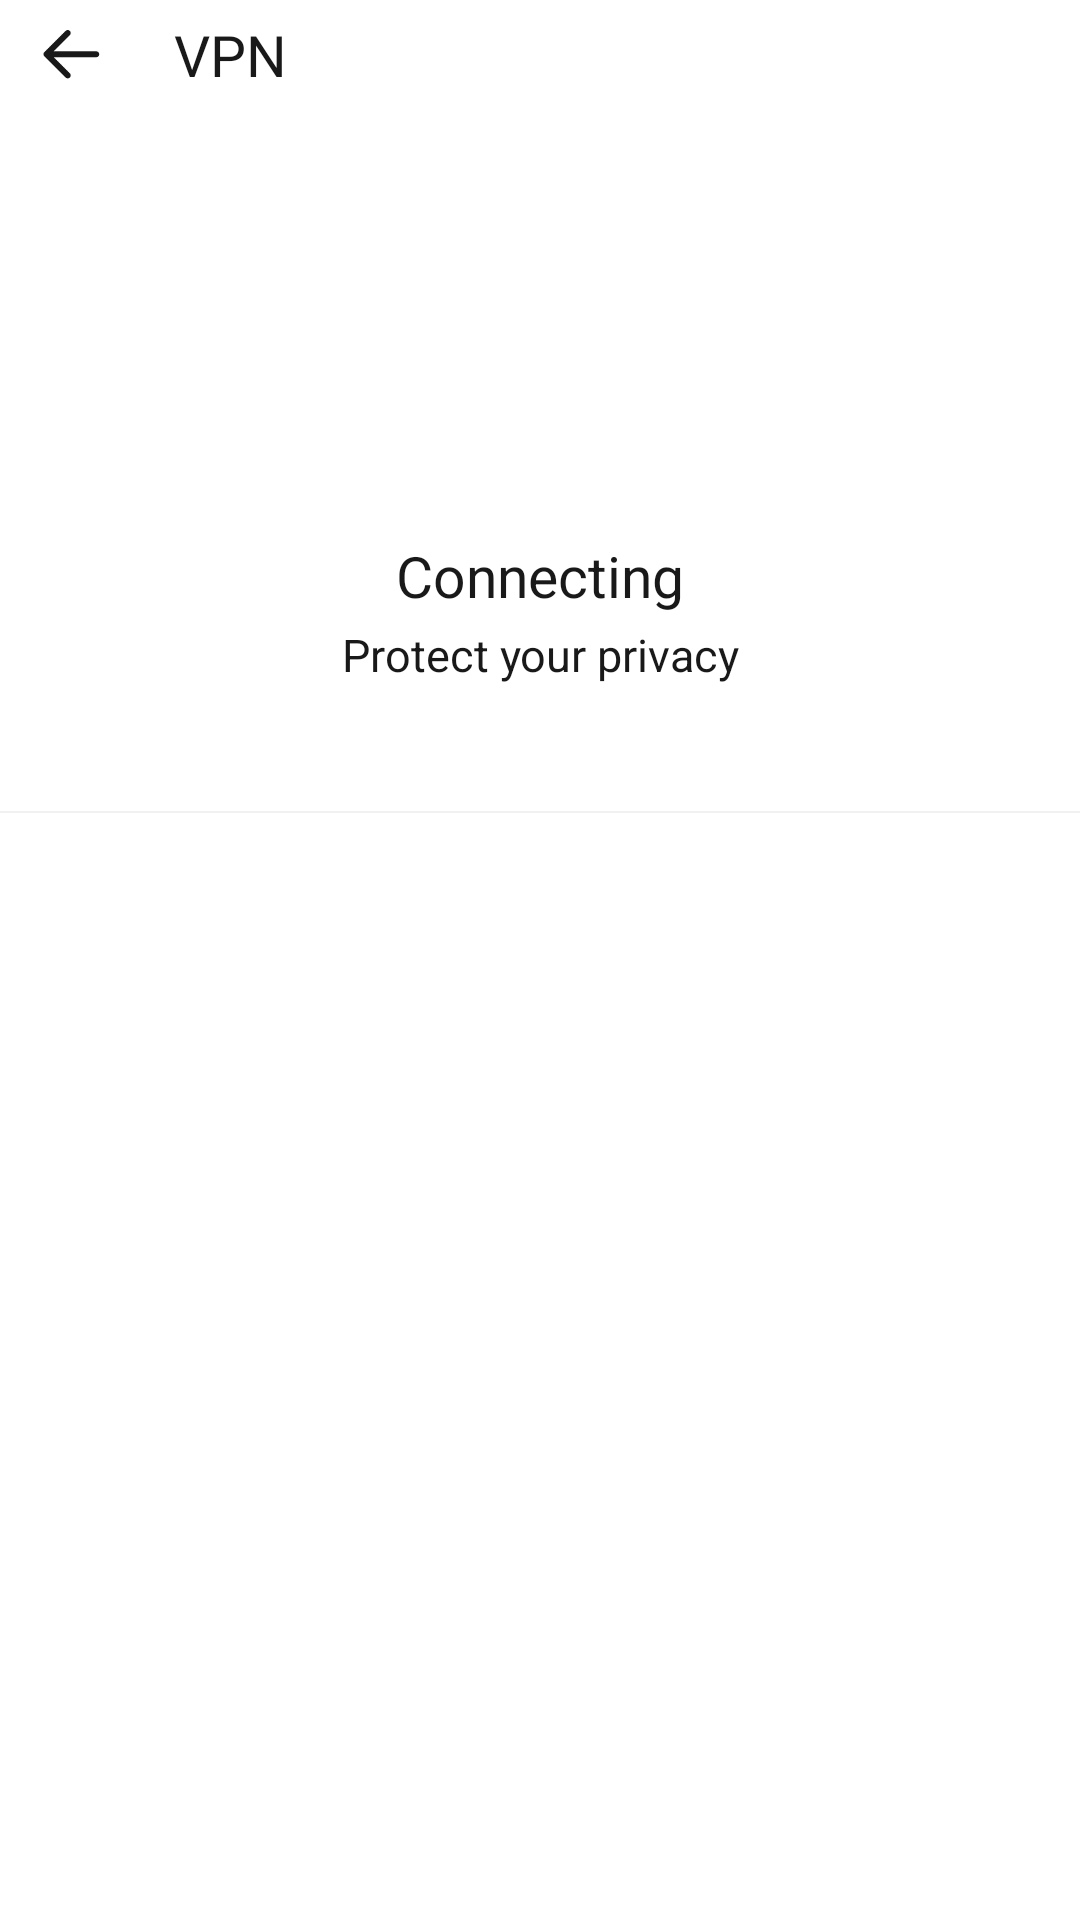

Locate icon controls on the screen. Image size 1080x1920, boxes as [x1=x1, y1=y1, x2=x2, y2=y2].
title back: [x1=43, y1=30, x2=100, y2=79]
